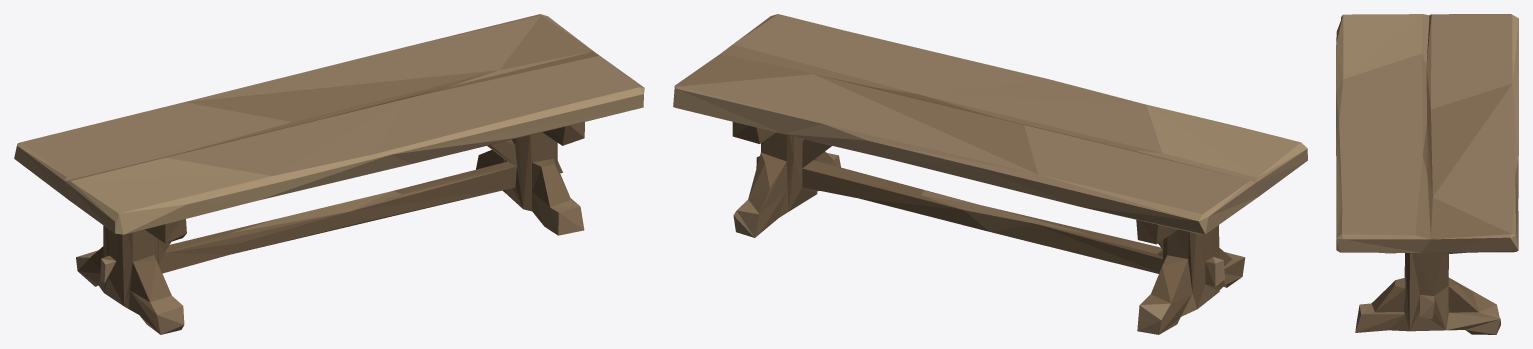
File: table.glb
3 views of the same model, side by side, from view 1: azimuth 30°, elevation 25°; view 2: azimuth 150°, elevation 25°; view 3: azimuth 270°, elevation 25° (orthographic). The views are drawn at different scales.
Parts seen in each view (by area): view 1: Hull; view 2: Hull; view 3: Hull.
Boxes of the visible parts, <box> form: Hull: <box>14,14,644,334</box>; Hull: <box>673,14,1307,334</box>; Hull: <box>1336,14,1518,334</box>.
Bounding box in the file's own units: 3.09 × 0.78 × 1.06.
